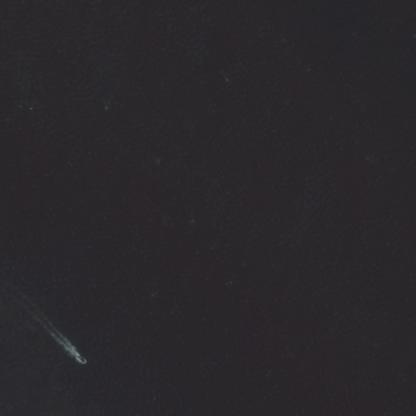ship: (68, 350, 94, 370)
